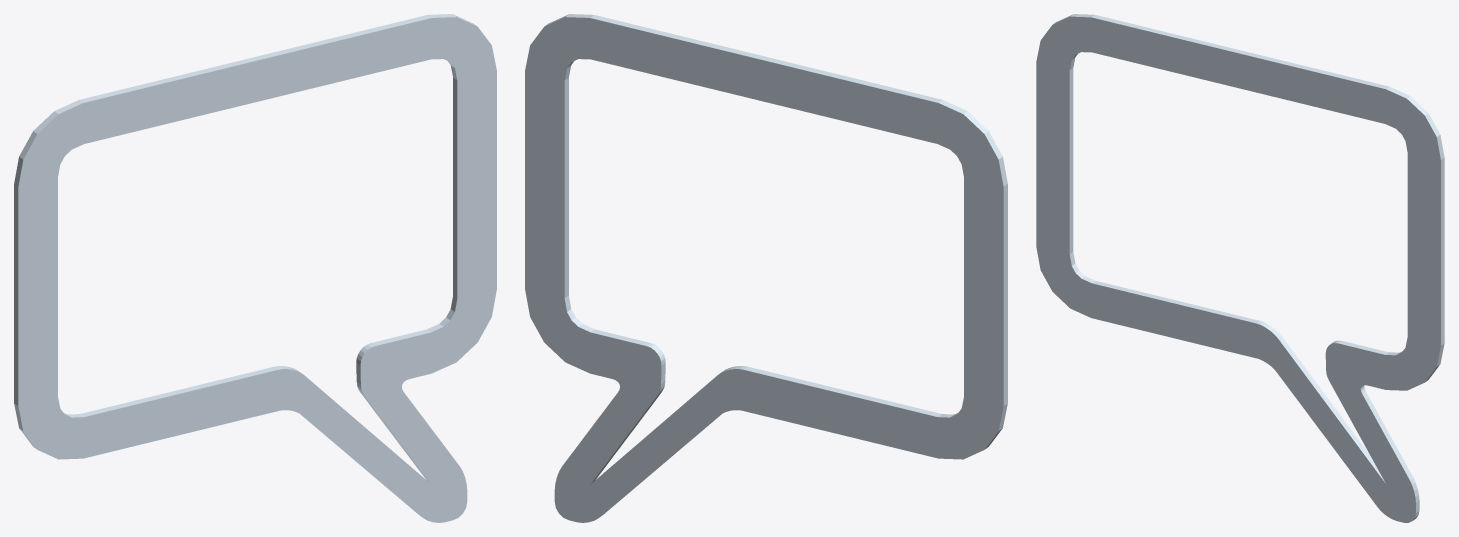
The model's file is Text_Message_3D_Icon_02.fbx.
The picture shows the model from 3 angles, left to right: view 1: azimuth 30°, elevation 25°; view 2: azimuth 150°, elevation 25°; view 3: azimuth 330°, elevation 25°; orthographic projection. The views are drawn at different scales.
Visible parts, largest first — view 1: Text_Message_3D_Icon_02; view 2: Text_Message_3D_Icon_02; view 3: Text_Message_3D_Icon_02.
Boxes of the visible parts, x1=… form: Text_Message_3D_Icon_02: x1=14, y1=14, x2=496, y2=522; Text_Message_3D_Icon_02: x1=525, y1=14, x2=1007, y2=522; Text_Message_3D_Icon_02: x1=1036, y1=14, x2=1444, y2=522.
Size of the model in its own units: 130 by 132 by 2.
